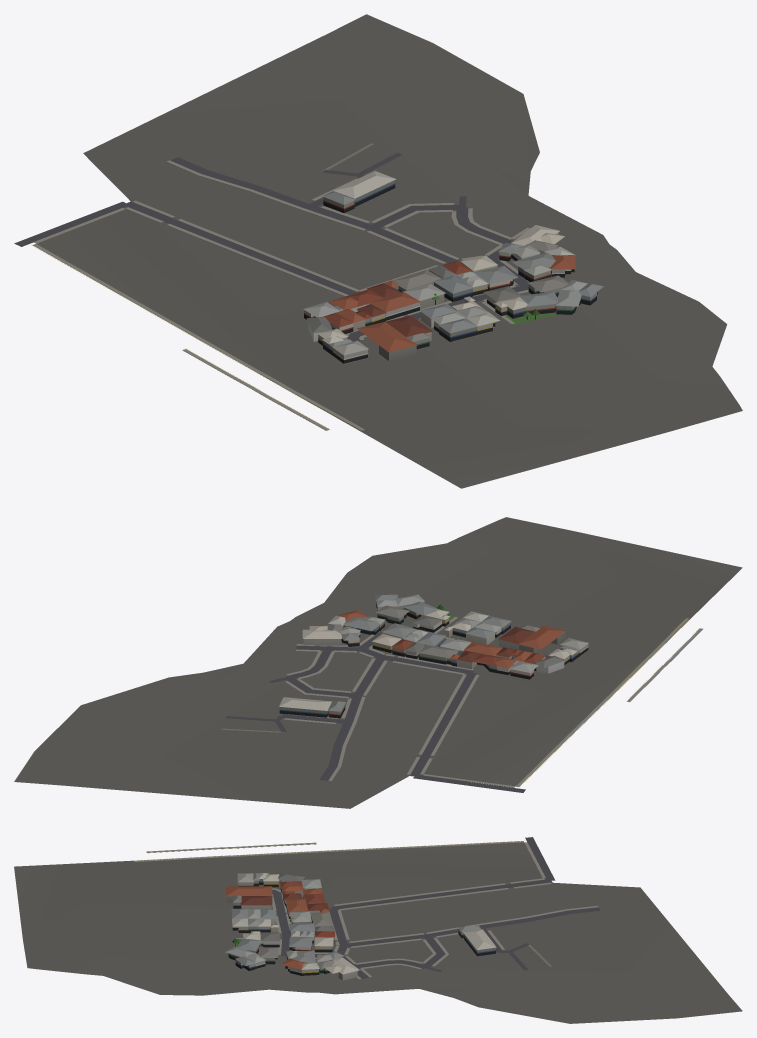
The picture shows the model from 3 angles, top to bottom: view 1: azimuth 30°, elevation 25°; view 2: azimuth 150°, elevation 25°; view 3: azimuth 270°, elevation 25°; orthographic projection. The views are drawn at different scales.
Parts seen in each view (by area): view 1: Landuse__r-11c-11, Buildings__r-11c-11-col, Sidewalks__r-11c-11-col, Roads_Minor__r-11c-11, Windows__r-11c-11; view 2: Landuse__r-11c-11, Buildings__r-11c-11-col, Roads_Minor__r-11c-11, Sidewalks__r-11c-11-col, Windows__r-11c-11; view 3: Landuse__r-11c-11, Buildings__r-11c-11-col, Sidewalks__r-11c-11-col, Roads_Minor__r-11c-11, Windows__r-11c-11.
Boxes of the visible parts, x1,y1,x2,y2 form: Landuse__r-11c-11: [37, 14, 742, 488]; Buildings__r-11c-11-col: [303, 171, 603, 364]; Sidewalks__r-11c-11-col: [32, 160, 530, 430]; Roads_Minor__r-11c-11: [14, 153, 528, 341]; Windows__r-11c-11: [304, 183, 597, 363]; Landuse__r-11c-11: [14, 517, 742, 808]; Buildings__r-11c-11-col: [279, 594, 588, 718]; Roads_Minor__r-11c-11: [226, 626, 548, 792]; Sidewalks__r-11c-11-col: [284, 617, 702, 787]; Windows__r-11c-11: [279, 601, 588, 718]; Landuse__r-11c-11: [14, 842, 742, 1023]; Buildings__r-11c-11-col: [225, 873, 496, 980]; Sidewalks__r-11c-11-col: [134, 841, 598, 979]; Roads_Minor__r-11c-11: [272, 837, 600, 978]; Windows__r-11c-11: [228, 881, 496, 975].
Bounding box in the file's own units: 356 × 9 × 587.
